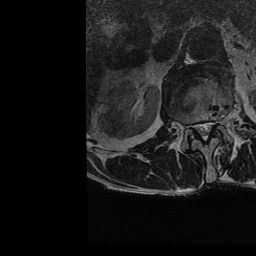CCS_normal: (199, 113, 206, 148)
LFS_severe_stenosis: (212, 111, 220, 133)
LLS_normal: (206, 113, 212, 138)
RFS_severe_stenosis: (183, 114, 192, 137)
RLS_stenosis: (192, 115, 200, 140)
